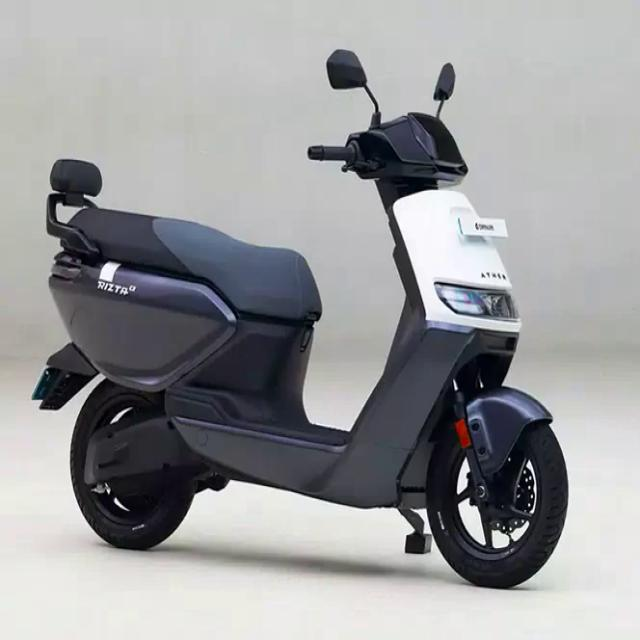objects: (34, 31, 573, 596)
